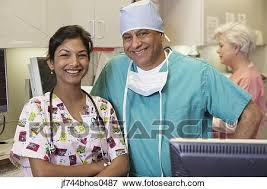Indian_Male: (123, 21, 160, 65)
